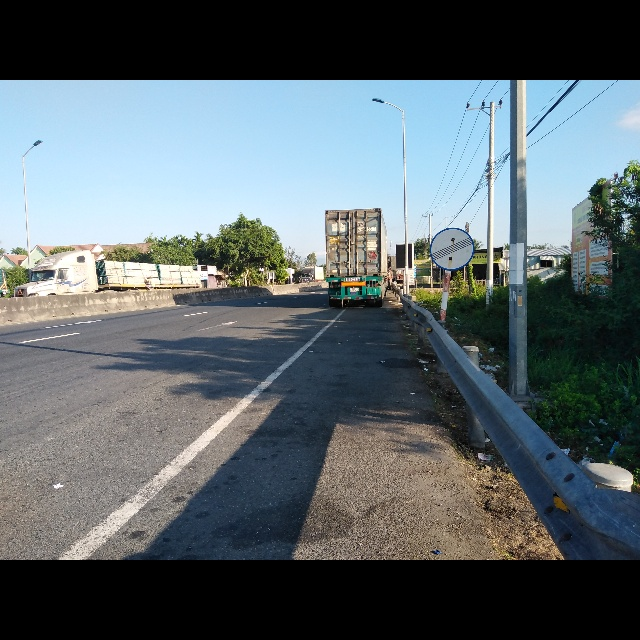Hết tất cả các lệnh cấm: (429, 227, 475, 272)
